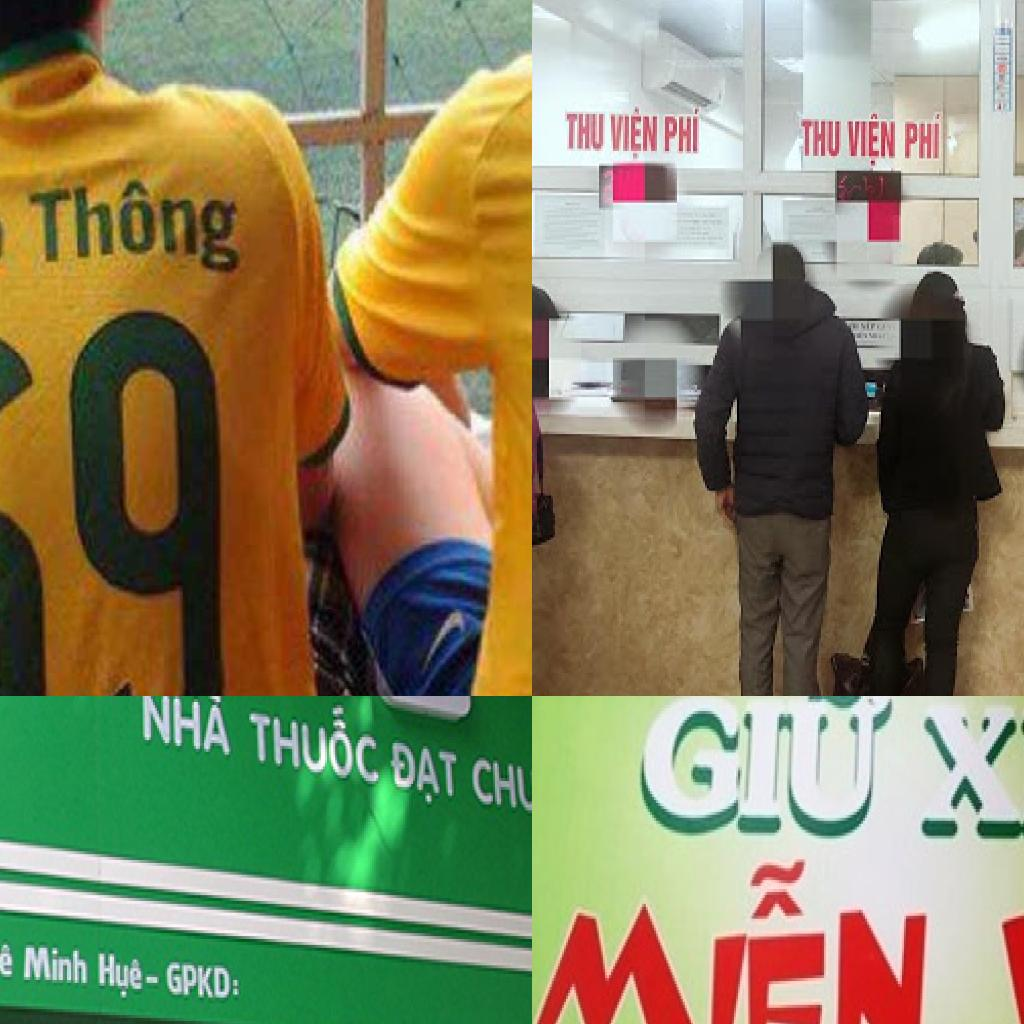text: (0, 304, 221, 696), (532, 853, 939, 1024), (631, 696, 901, 847), (23, 176, 245, 288), (918, 696, 1024, 850), (245, 696, 380, 783), (134, 696, 236, 757), (384, 737, 462, 816), (472, 731, 532, 827), (163, 960, 245, 1006), (22, 936, 91, 989), (96, 942, 148, 1003), (609, 106, 661, 166), (845, 112, 899, 168), (663, 104, 703, 156), (797, 116, 843, 161), (905, 114, 945, 163), (565, 114, 607, 154), (0, 933, 18, 980)
